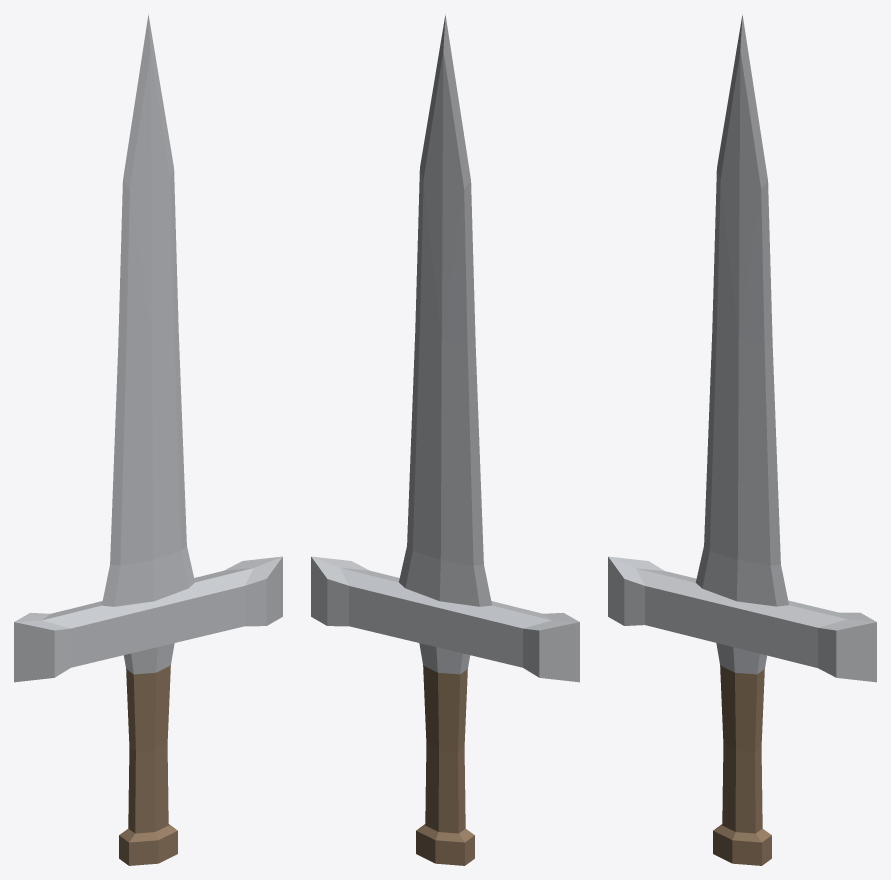
File: weapon_iron_sword.glb
3 renders of one model, left to right at view 1: azimuth 30°, elevation 25°; view 2: azimuth 150°, elevation 25°; view 3: azimuth 330°, elevation 25°, orthographic.
Visible parts, largest first — view 1: iron_sword; view 2: iron_sword; view 3: iron_sword.
Boxes of the visible parts, box(x1,y1,x2,y2) form: iron_sword: box(14, 14, 282, 865); iron_sword: box(311, 14, 579, 865); iron_sword: box(608, 14, 876, 865).
Bounding box in the file's own units: 0.3839 × 1.15 × 0.0602.
